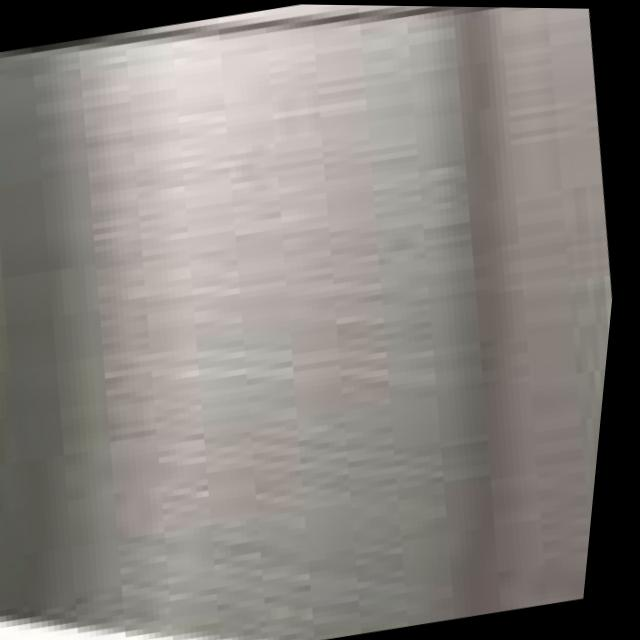metal-plates: (1, 4, 619, 640)
